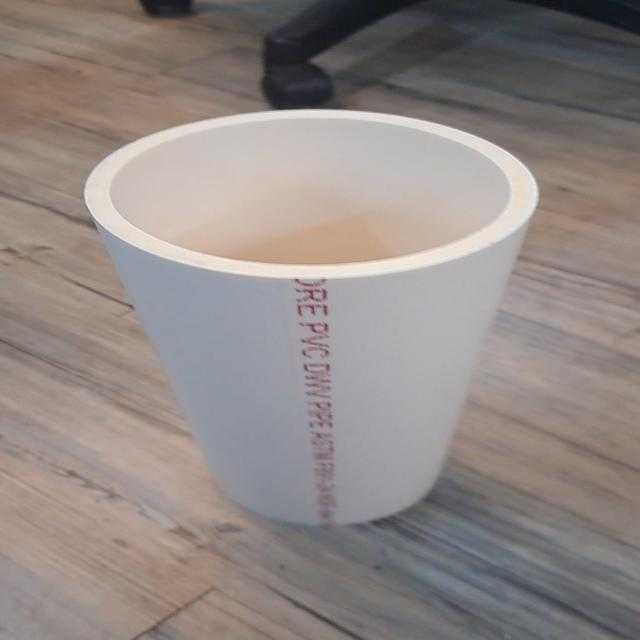CORAL: (66, 109, 556, 525)
